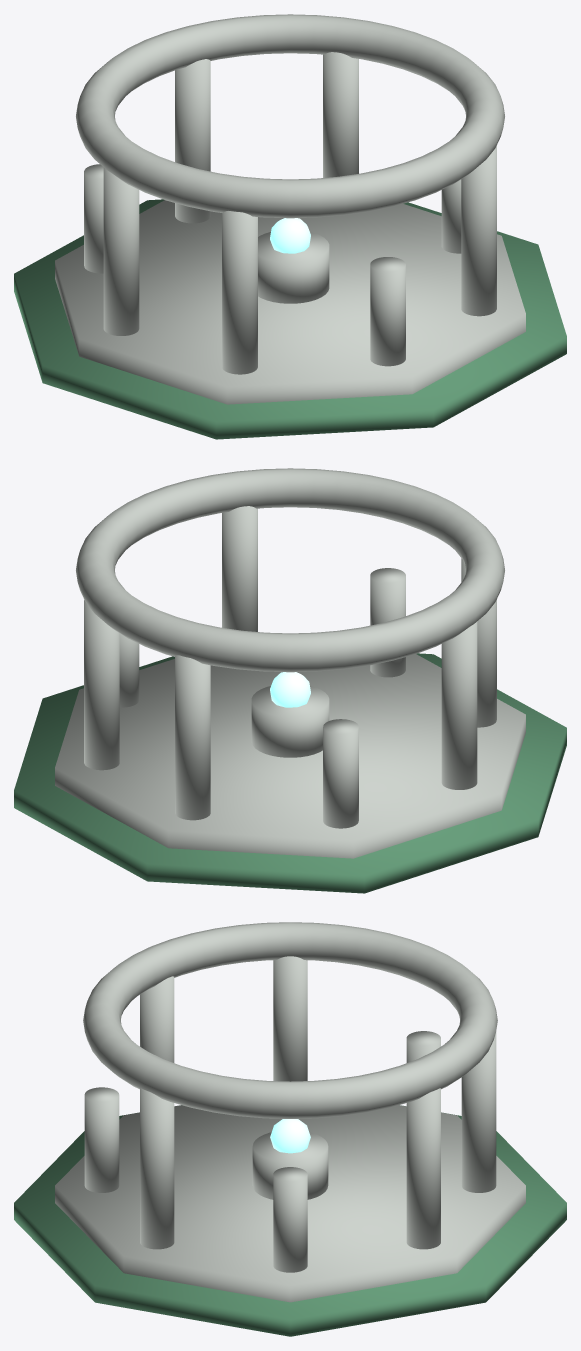
File: structure_drowned_garden_pavilion.glb
The picture shows the model from 3 angles, top to bottom: view 1: azimuth 30°, elevation 25°; view 2: azimuth 150°, elevation 25°; view 3: azimuth 270°, elevation 25°; orthographic projection. The views are drawn at different scales.
Visible parts, largest first — view 1: Pavilion_Platform, Pavilion_Entablature, Submerged_Plinth, Sunken_Col_6, Sunken_Col_5, Sunken_Col_8, Sunken_Col_2, Sunken_Col_3, Urn_Pedestal, Sunken_Col_7, Sunken_Col_4, Sunken_Col_1 (+1 smaller); view 2: Pavilion_Platform, Pavilion_Entablature, Submerged_Plinth, Sunken_Col_3, Sunken_Col_5, Sunken_Col_2, Sunken_Col_8, Urn_Pedestal, Sunken_Col_4, Sunken_Col_7, Sunken_Col_6, Sunken_Col_1 (+1 smaller); view 3: Pavilion_Platform, Pavilion_Entablature, Submerged_Plinth, Sunken_Col_2, Sunken_Col_8, Sunken_Col_3, Sunken_Col_5, Sunken_Col_7, Sunken_Col_1, Urn_Pedestal, Sunken_Col_6, Aquatic_Relic_Heart (+1 smaller).
Boxes of the visible parts, <box> form: Pavilion_Platform: <box>55,200,525,404</box>; Pavilion_Entablature: <box>76,14,504,218</box>; Submerged_Plinth: <box>14,199,566,439</box>; Sunken_Col_6: <box>222,211,257,374</box>; Sunken_Col_5: <box>103,167,139,335</box>; Sunken_Col_8: <box>461,146,496,316</box>; Sunken_Col_2: <box>323,52,358,177</box>; Sunken_Col_3: <box>175,59,210,223</box>; Urn_Pedestal: <box>258,232,329,303</box>; Sunken_Col_7: <box>370,257,405,366</box>; Sunken_Col_4: <box>84,164,103,273</box>; Sunken_Col_1: <box>441,179,461,253</box>; Pavilion_Platform: <box>55,654,525,858</box>; Pavilion_Entablature: <box>76,468,504,672</box>; Submerged_Plinth: <box>14,653,566,893</box>; Sunken_Col_3: <box>175,655,210,820</box>; Sunken_Col_5: <box>441,621,477,789</box>; Sunken_Col_2: <box>84,600,119,770</box>; Sunken_Col_8: <box>222,506,257,631</box>; Urn_Pedestal: <box>251,686,329,757</box>; Sunken_Col_4: <box>323,719,358,828</box>; Sunken_Col_7: <box>370,568,405,677</box>; Sunken_Col_6: <box>461,558,496,727</box>; Sunken_Col_1: <box>119,633,139,707</box>; Pavilion_Platform: <box>55,1105,525,1302</box>; Pavilion_Entablature: <box>83,922,497,1118</box>; Submerged_Plinth: <box>14,1105,566,1336</box>; Sunken_Col_2: <box>406,1088,440,1249</box>; Sunken_Col_8: <box>140,1088,174,1249</box>; Sunken_Col_3: <box>461,1032,496,1192</box>; Sunken_Col_5: <box>273,956,307,1081</box>; Sunken_Col_7: <box>84,1087,119,1192</box>; Sunken_Col_1: <box>273,1167,307,1272</box>; Urn_Pedestal: <box>252,1132,328,1199</box>; Sunken_Col_6: <box>140,976,174,1062</box>; Aquatic_Relic_Heart: <box>270,1119,310,1153</box>.
Bounding box in the file's own units: 17.6 × 7.6 × 17.6.
